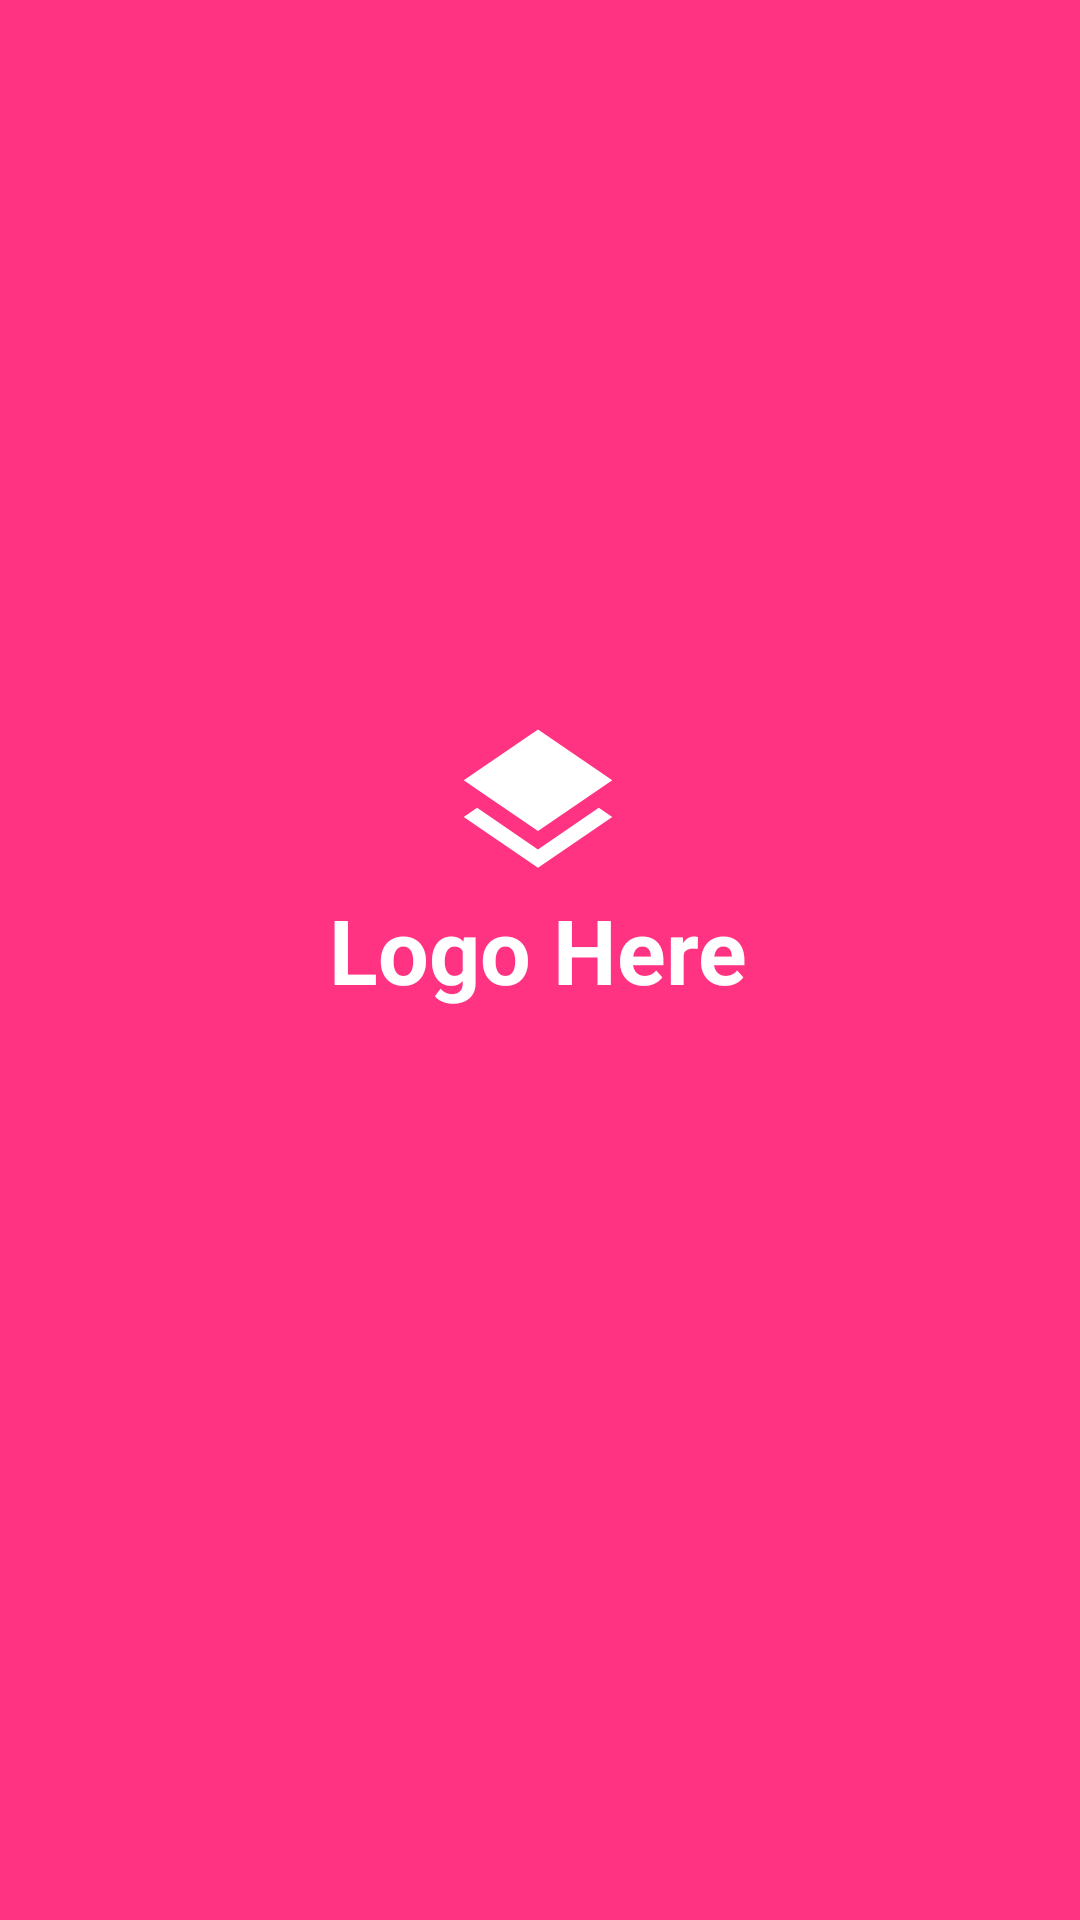

Screen size 1080x1920. Icon name, then its center in pixels as (x=x, y=y):
layers: (x=538, y=798)
